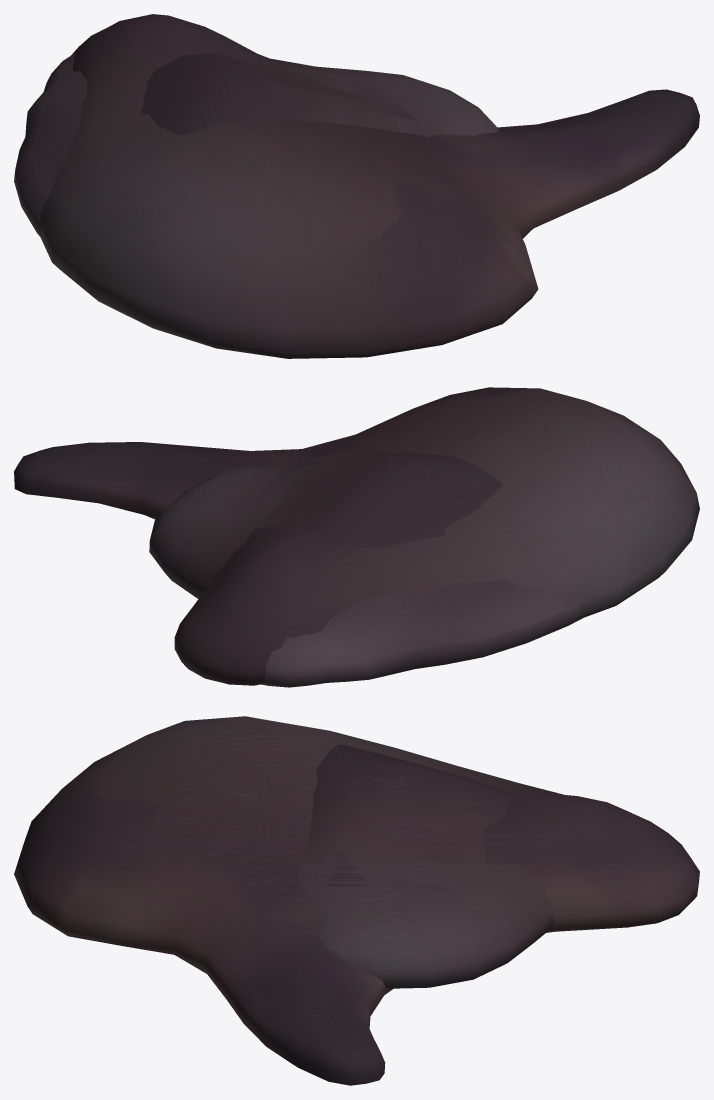
File: Guide_Oil.fbx
3 views of the same model, one above another, from view 1: azimuth 30°, elevation 25°; view 2: azimuth 150°, elevation 25°; view 3: azimuth 270°, elevation 25° (orthographic). The views are drawn at different scales.
Visible parts, largest first — view 1: Guide_Oil 1, Guide_Oil 3; view 2: Guide_Oil 1, Guide_Oil 3; view 3: Guide_Oil 1, Guide_Oil 3.
Part boxes in pixels (<box>): Guide_Oil 1: <box>40,14,699,358</box>; Guide_Oil 3: <box>14,53,499,236</box>; Guide_Oil 1: <box>14,387,699,685</box>; Guide_Oil 3: <box>149,452,582,687</box>; Guide_Oil 1: <box>14,716,699,1085</box>; Guide_Oil 3: <box>296,744,554,988</box>.
Bounding box in the file's own units: 584 × 110 × 571.
